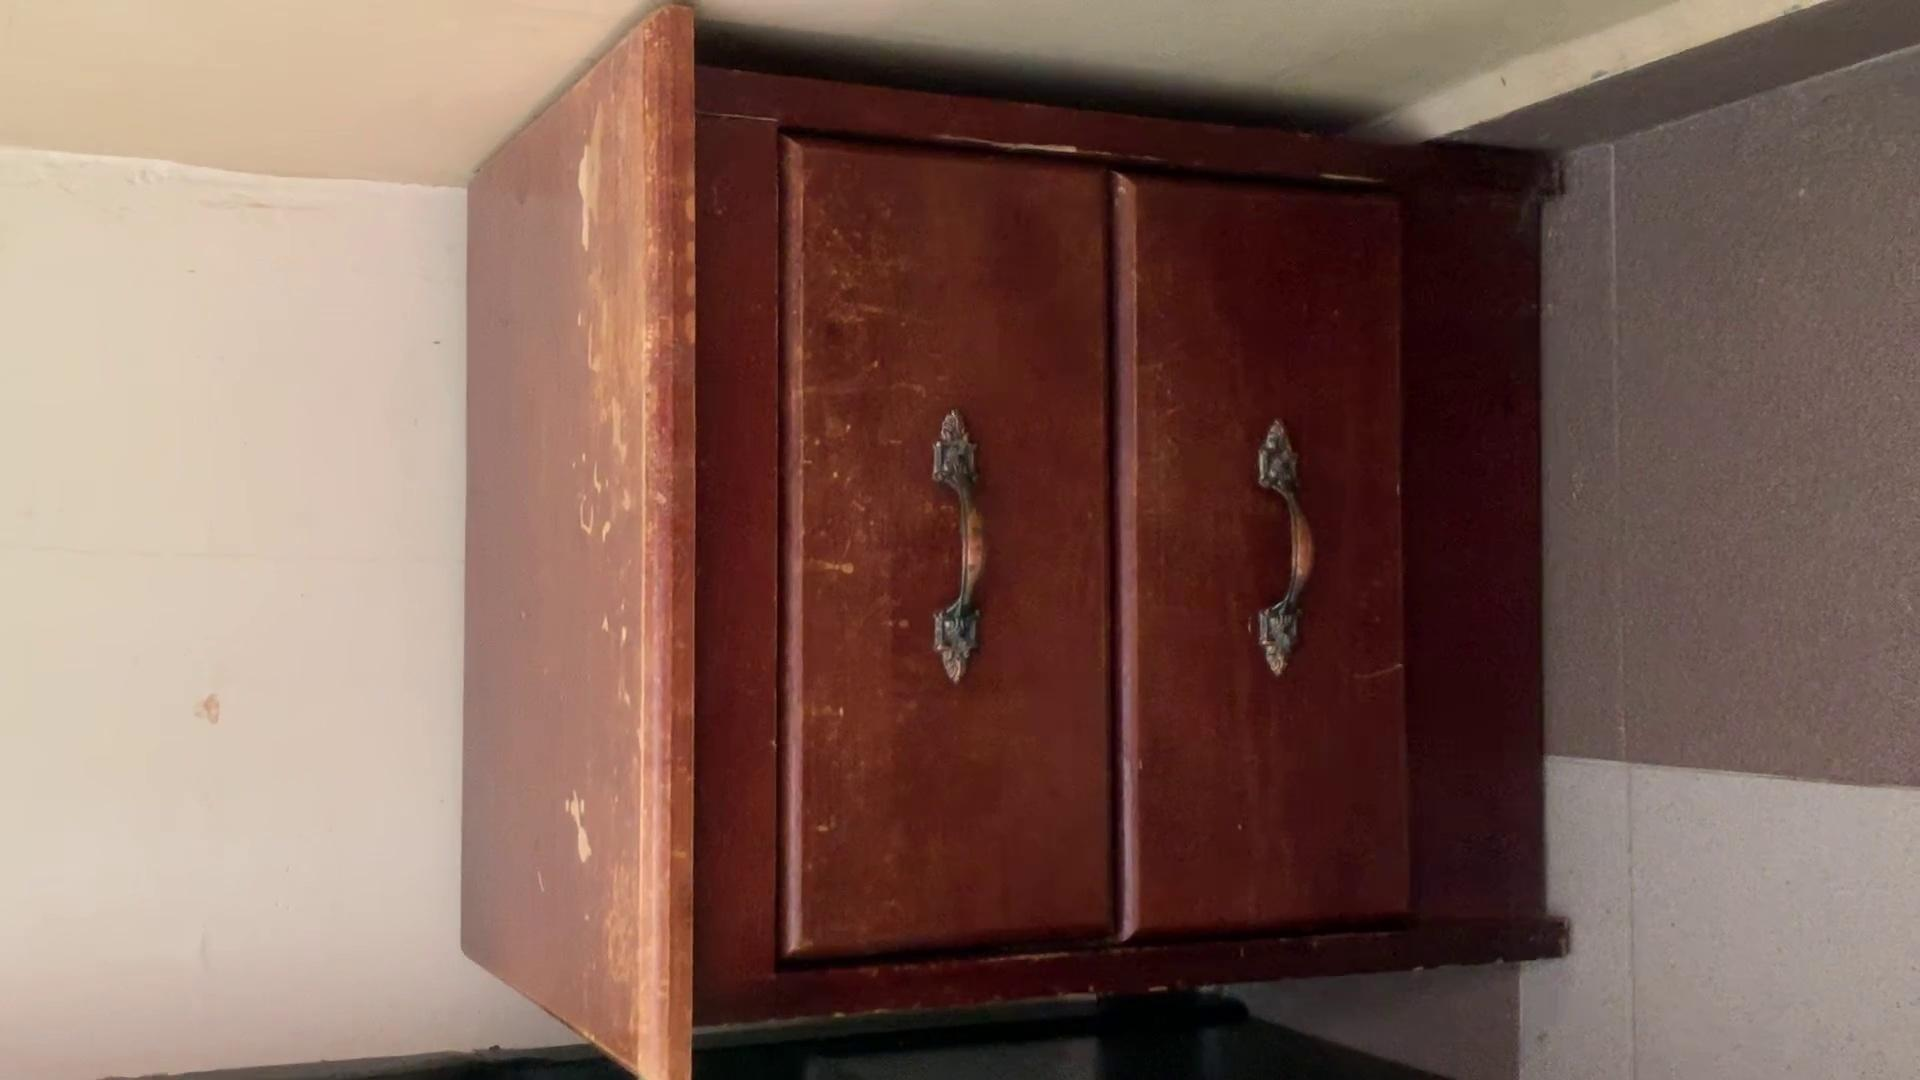cabinet_door: (789, 148, 1120, 948), (1124, 185, 1410, 928)
handle: (1242, 419, 1327, 690), (924, 406, 1000, 696)
